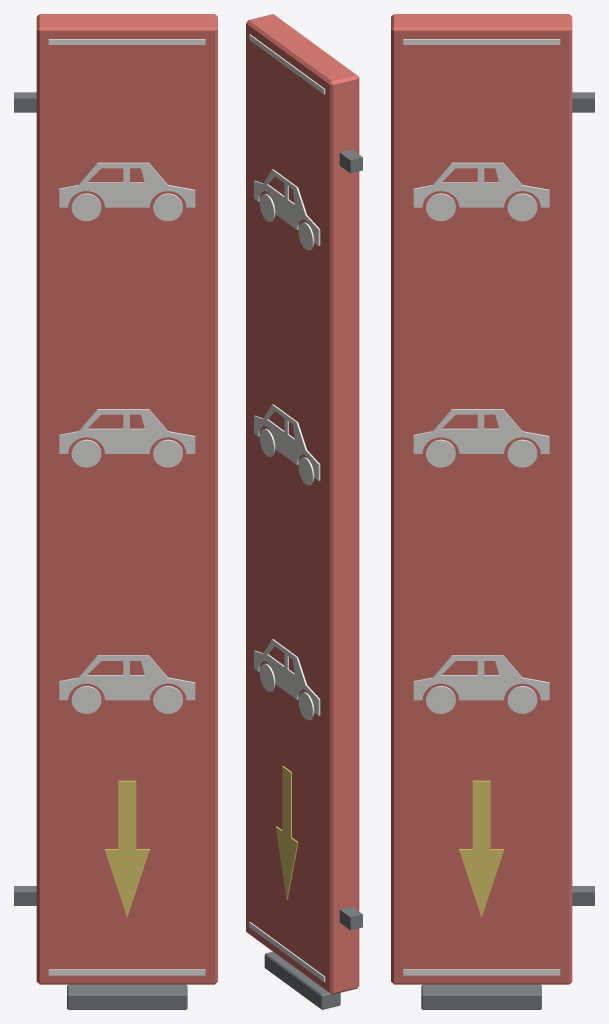
Rendered from blade_sign.glb.
The picture shows the model from 3 angles, left to right: view 1: azimuth 90°, elevation 25°; view 2: azimuth 210°, elevation 25°; view 3: azimuth 270°, elevation 25°; orthographic projection. The views are drawn at different scales.
Visible parts, largest first — view 1: blade_sign_paint_r, blade_sign_paint_w, blade_sign_steel_d, blade_sign_paint_y; view 2: blade_sign_paint_r, blade_sign_paint_w, blade_sign_steel_d, blade_sign_paint_y; view 3: blade_sign_paint_r, blade_sign_paint_w, blade_sign_steel_d, blade_sign_paint_y.
Boxes of the visible parts, left/top/right/bottom form: blade_sign_paint_r: left=36, top=14, right=217, bottom=984; blade_sign_paint_w: left=48, top=39, right=205, bottom=975; blade_sign_steel_d: left=14, top=92, right=187, bottom=1009; blade_sign_paint_y: left=104, top=780, right=149, bottom=917; blade_sign_paint_r: left=246, top=14, right=359, bottom=994; blade_sign_paint_w: left=249, top=34, right=325, bottom=981; blade_sign_steel_d: left=264, top=149, right=362, bottom=1009; blade_sign_paint_y: left=276, top=766, right=298, bottom=899; blade_sign_paint_r: left=391, top=14, right=572, bottom=984; blade_sign_paint_w: left=403, top=39, right=560, bottom=975; blade_sign_steel_d: left=421, top=92, right=594, bottom=1009; blade_sign_paint_y: left=459, top=780, right=504, bottom=917.
Size of the model in its own units: 0.264 by 7.2 by 1.35.
